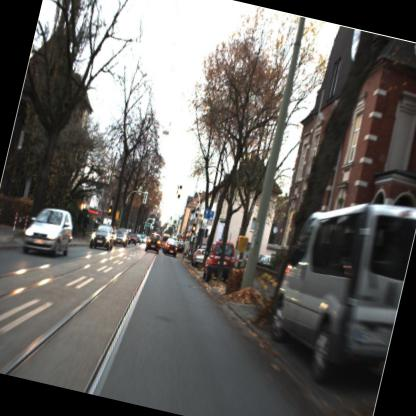mandatory: (200, 207, 212, 221)
